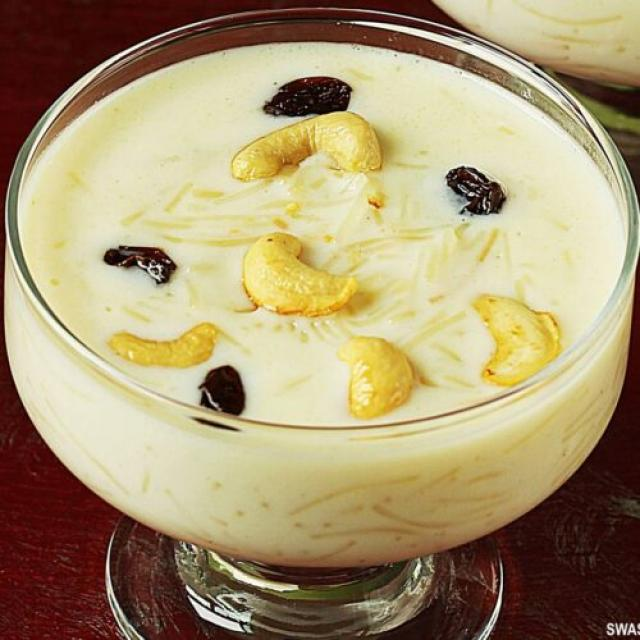shavige payasa: (4, 6, 640, 532)
